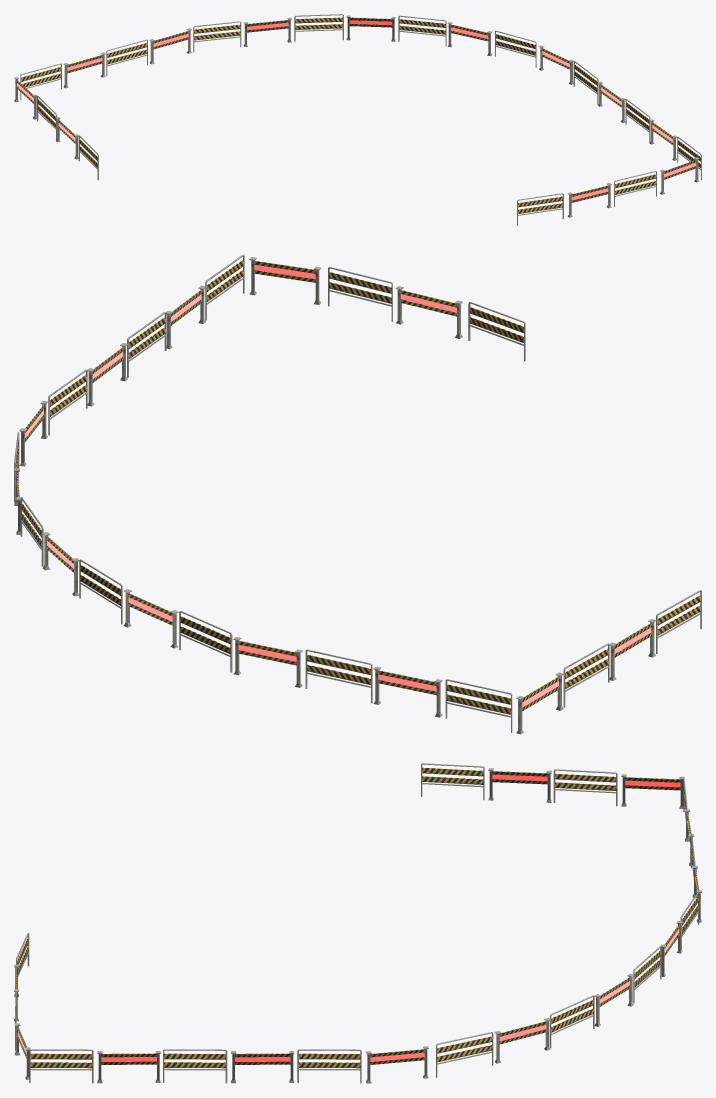
The model's file is Barriercombined.fbx.
3 renders of one model, top to bottom at view 1: azimuth 30°, elevation 25°; view 2: azimuth 150°, elevation 25°; view 3: azimuth 270°, elevation 25°, orthographic. The views are drawn at different scales.
Parts seen in each view (by area): view 1: Barrier; view 2: Barrier; view 3: Barrier.
Part boxes in pixels (x1,y1,x2,y2): Barrier: (14,14,701,225); Barrier: (14,254,701,734); Barrier: (14,763,701,1083).
Size of the model in its own units: 21.59 by 1.19 by 21.79.
